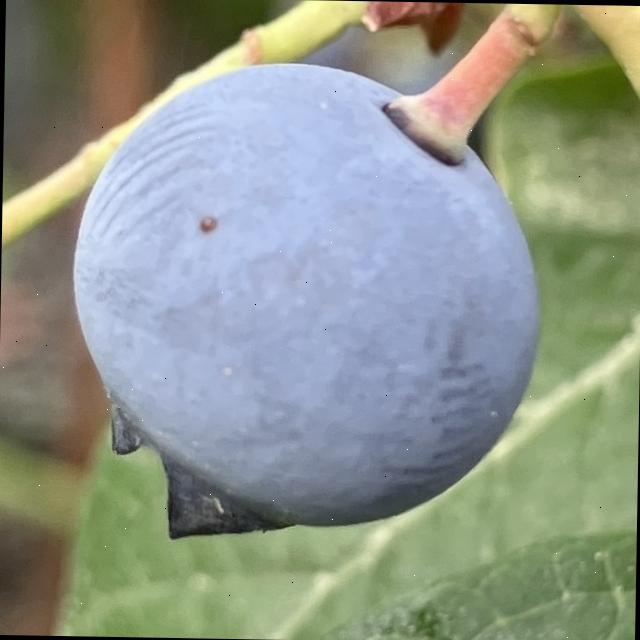Blueberries: (59, 49, 546, 540)
